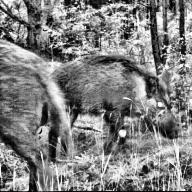boar: (62, 57, 186, 147)
